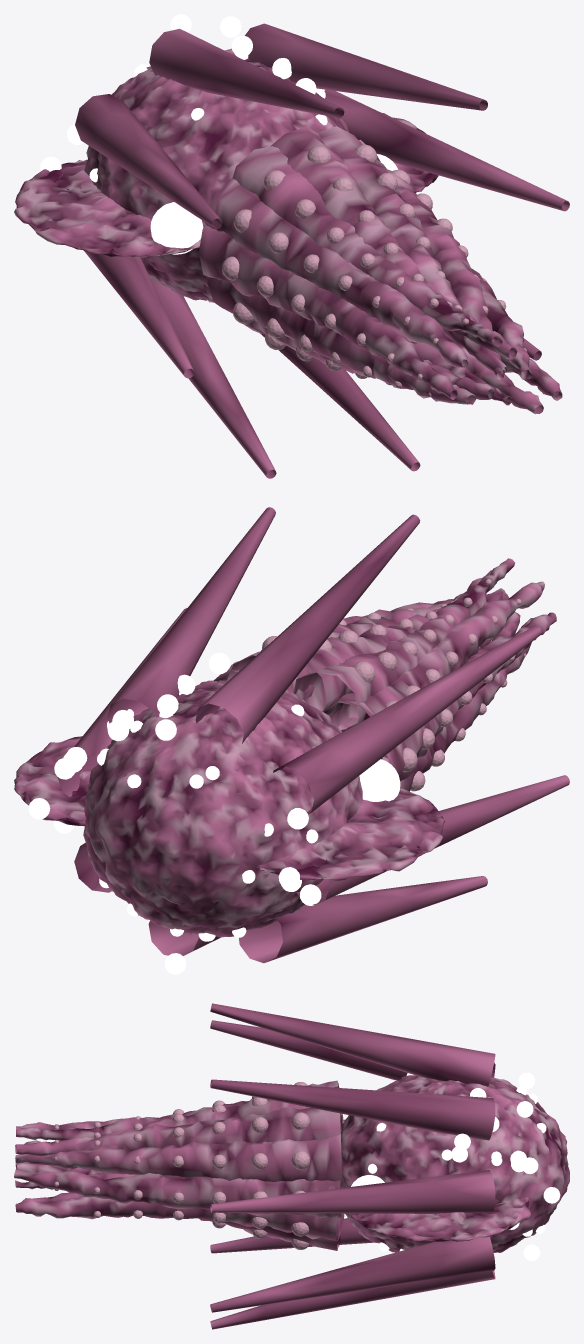
Rendered from ixil_titan.glb.
3 views of the same model, one above another, from view 1: azimuth 30°, elevation 25°; view 2: azimuth 150°, elevation 25°; view 3: azimuth 270°, elevation 25° (orthographic). The views are drawn at different scales.
Parts seen in each view (by area): view 1: ixil_titan.001; view 2: ixil_titan.001; view 3: ixil_titan.001.
Part boxes in pixels (bbox=[...]): ixil_titan.001: bbox=[14, 14, 569, 478]; ixil_titan.001: bbox=[14, 507, 569, 974]; ixil_titan.001: bbox=[14, 1003, 569, 1329].
Size of the model in its own units: 6.34 by 5.87 by 9.99.
